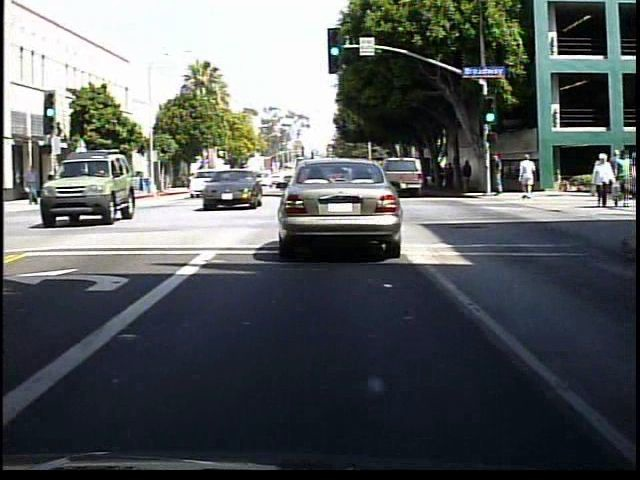person: (586, 155, 615, 210), (611, 146, 629, 211), (488, 151, 509, 204), (518, 154, 540, 203), (28, 163, 47, 208), (464, 160, 479, 193), (448, 161, 461, 194), (611, 146, 622, 167)
